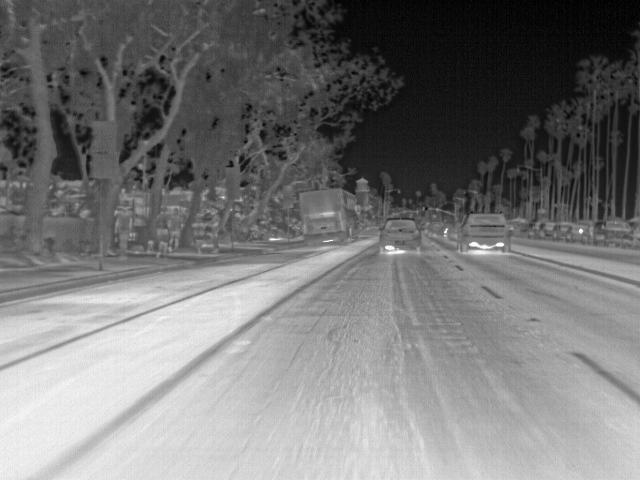car: (458, 212, 510, 255), (377, 218, 422, 253), (595, 220, 634, 246), (552, 220, 575, 241), (528, 219, 547, 239), (539, 221, 557, 238)
person: (153, 205, 172, 260), (167, 206, 187, 253)
